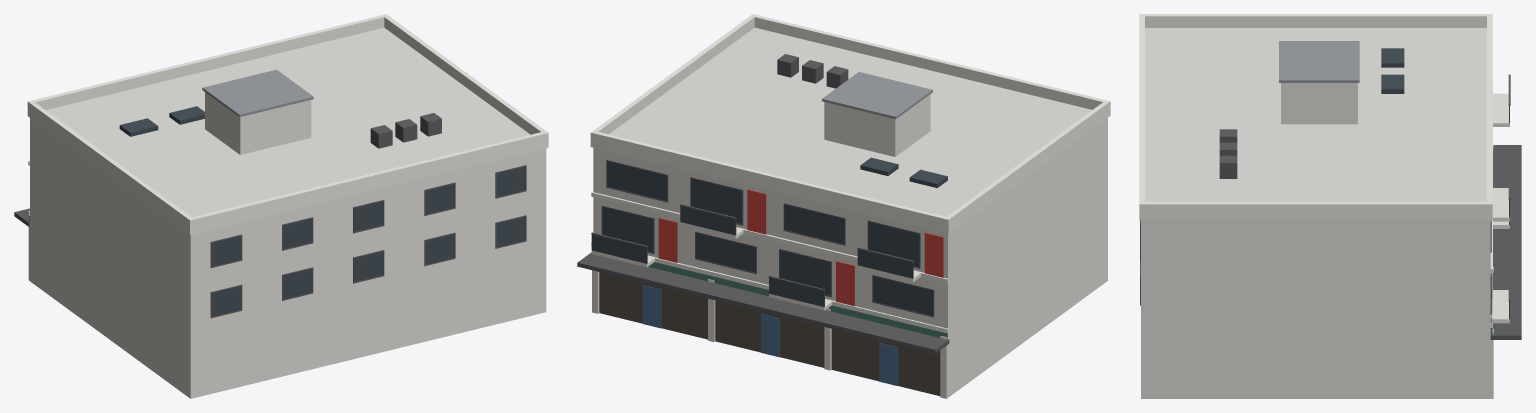
Rendered from ca_mainstreet3_b.glb.
3 renders of one model, left to right at view 1: azimuth 30°, elevation 25°; view 2: azimuth 150°, elevation 25°; view 3: azimuth 270°, elevation 25°, orthographic. The views are drawn at different scales.
Parts seen in each view (by area): view 1: ca_mainstreet3_b; view 2: ca_mainstreet3_b; view 3: ca_mainstreet3_b.
Part boxes in pixels (x1=…): ca_mainstreet3_b: x1=14, y1=14, x2=548, y2=398; ca_mainstreet3_b: x1=577, y1=14, x2=1110, y2=398; ca_mainstreet3_b: x1=1139, y1=14, x2=1521, y2=398.
Size of the model in its own units: 23.2 by 13 by 19.7.
